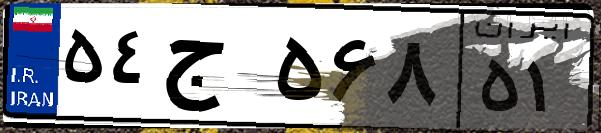1: (525, 38, 570, 115)
4: (110, 28, 158, 98)
5: (270, 28, 330, 110), (57, 26, 110, 100), (475, 38, 525, 113)
6: (330, 28, 385, 110)
8: (385, 28, 445, 110)
ج: (158, 20, 270, 120)
